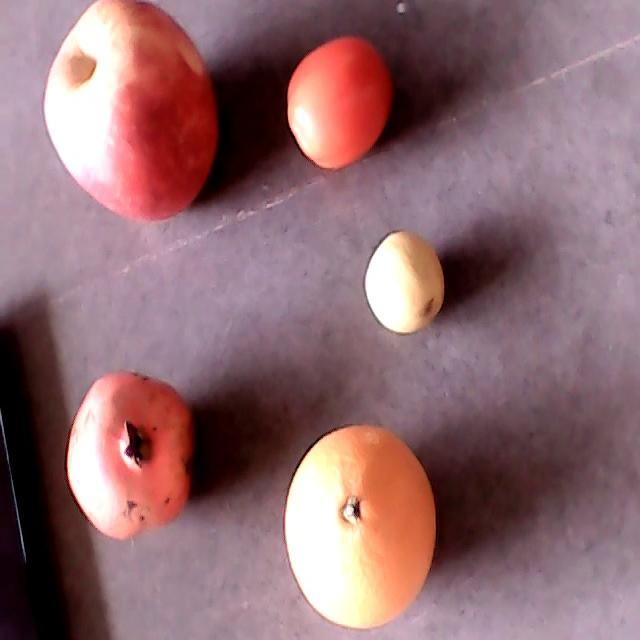apple: (44, 0, 218, 222)
lemon: (364, 230, 445, 333)
orange: (285, 424, 436, 630)
pomegranate: (66, 373, 193, 540)
tomato: (287, 38, 391, 170)
